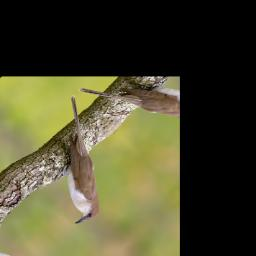Cuckoo: (6, 94, 148, 231)
